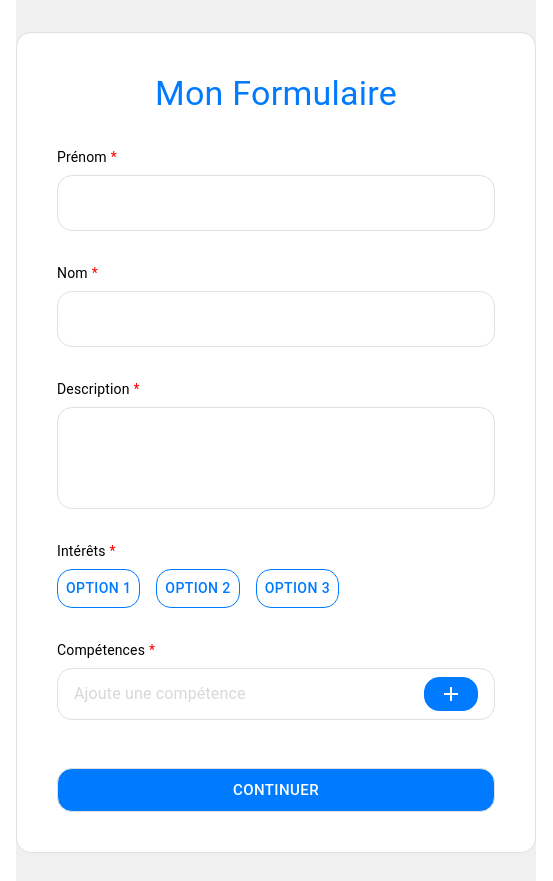
Scenario: OnboardingForm › clears selector error on focus (click option)
Click the button "Continuer": (276, 790) 57,768 -> 495,812
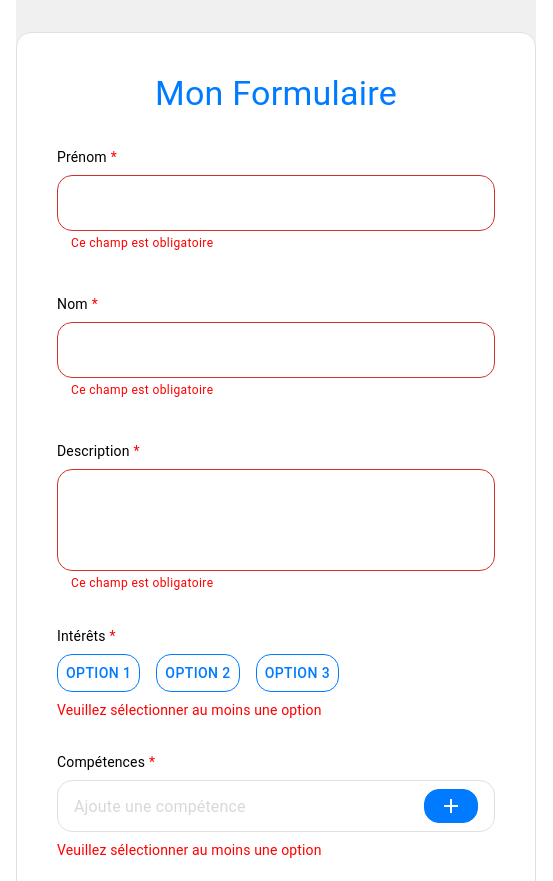
Expected: the text "Veuillez sélectionner au moins une option" is shown 2 times, 57,702 -> 322,718; 57,842 -> 322,858
Click the button "Option 1": (99, 673) 57,654 -> 140,692
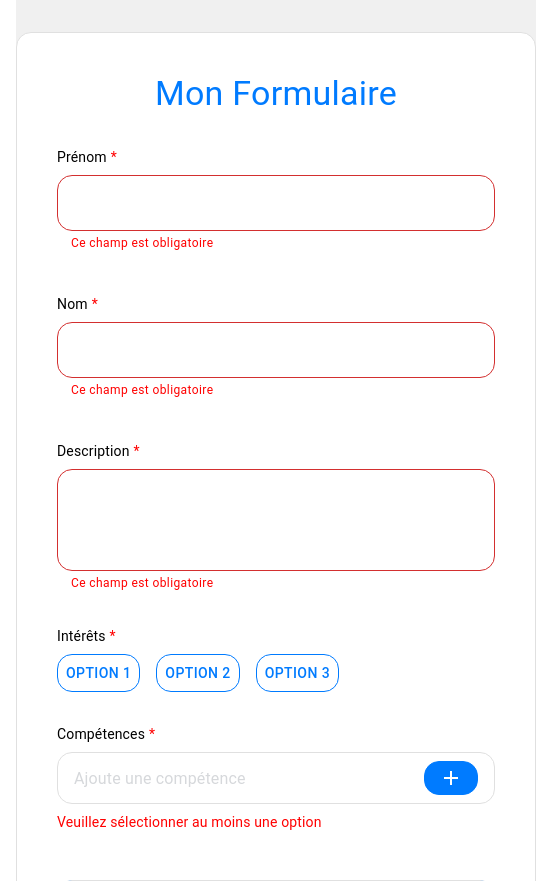
Expected: the text "Veuillez sélectionner au moins une option" is shown once, 57,814 -> 322,830
